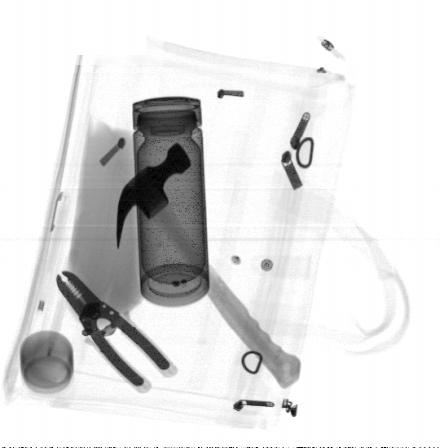Hammer: (117, 141, 303, 390)
Pliers: (56, 271, 179, 394)
